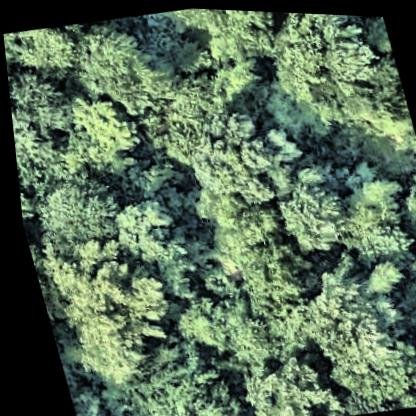tree-top: (26, 221, 180, 388), (251, 9, 396, 134), (283, 253, 414, 389), (176, 95, 314, 211), (200, 191, 309, 316), (52, 12, 172, 123), (19, 166, 129, 271), (111, 333, 241, 416), (311, 166, 416, 267), (259, 159, 358, 256), (46, 85, 147, 175), (212, 344, 337, 416), (171, 46, 275, 125), (99, 189, 187, 269), (199, 7, 287, 77), (5, 58, 66, 139), (168, 287, 231, 346), (19, 22, 82, 75), (2, 30, 28, 70), (403, 337, 416, 402), (405, 290, 416, 366), (66, 406, 114, 416)
